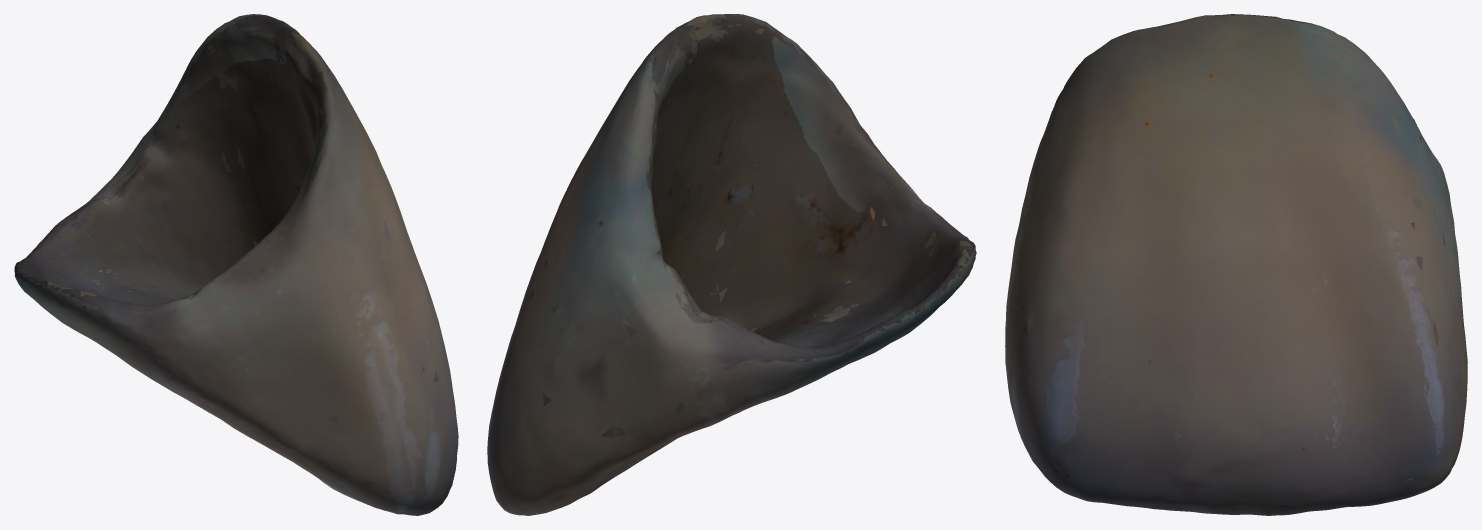
The model's file is emax ed.glb.
3 renders of one model, left to right at view 1: azimuth 30°, elevation 25°; view 2: azimuth 150°, elevation 25°; view 3: azimuth 270°, elevation 25°, orthographic. The views are drawn at different scales.
Parts seen in each view (by area): view 1: emax crown LowerJawScan; view 2: emax crown LowerJawScan; view 3: emax crown LowerJawScan.
Boxes of the visible parts, x1,y1,x2,y2 form: emax crown LowerJawScan: (14, 14, 458, 515); emax crown LowerJawScan: (487, 14, 976, 515); emax crown LowerJawScan: (1005, 14, 1467, 515).
Bounding box in the file's own units: 0.9526 × 1.1 × 0.9948.
1 material, 1 textured.
